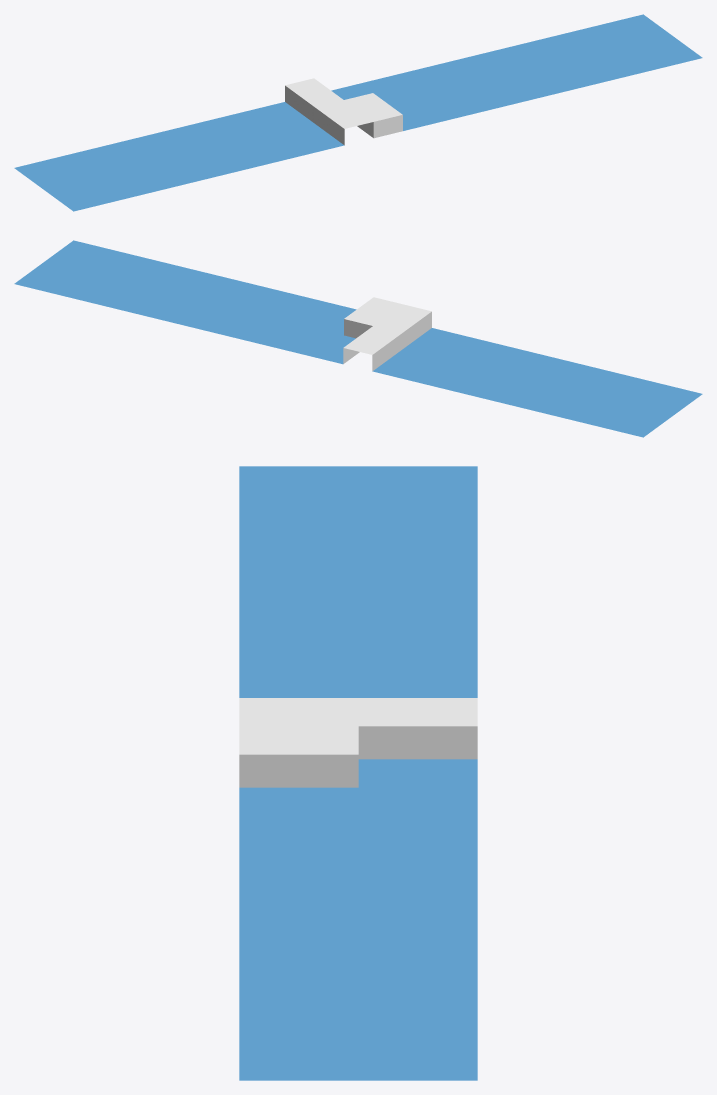
Rendered from RoadHolesRightTurn.fbx.
The picture shows the model from 3 angles, top to bottom: view 1: azimuth 30°, elevation 25°; view 2: azimuth 150°, elevation 25°; view 3: azimuth 270°, elevation 25°; orthographic projection. The views are drawn at different scales.
Visible parts, largest first — view 1: RoadHolesRightTurn; view 2: RoadHolesRightTurn; view 3: RoadHolesRightTurn.
Part boxes in pixels (box(x1,y1,x2,y2)): RoadHolesRightTurn: box(14, 14, 702, 211); RoadHolesRightTurn: box(14, 240, 702, 437); RoadHolesRightTurn: box(239, 466, 477, 1080).
Size of the model in its own units: 3902 by 97.53 by 640.
